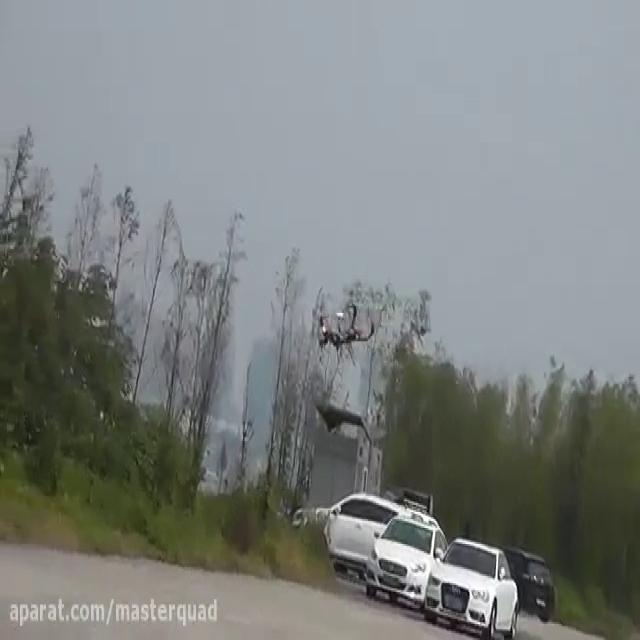drone: (312, 297, 378, 352)
